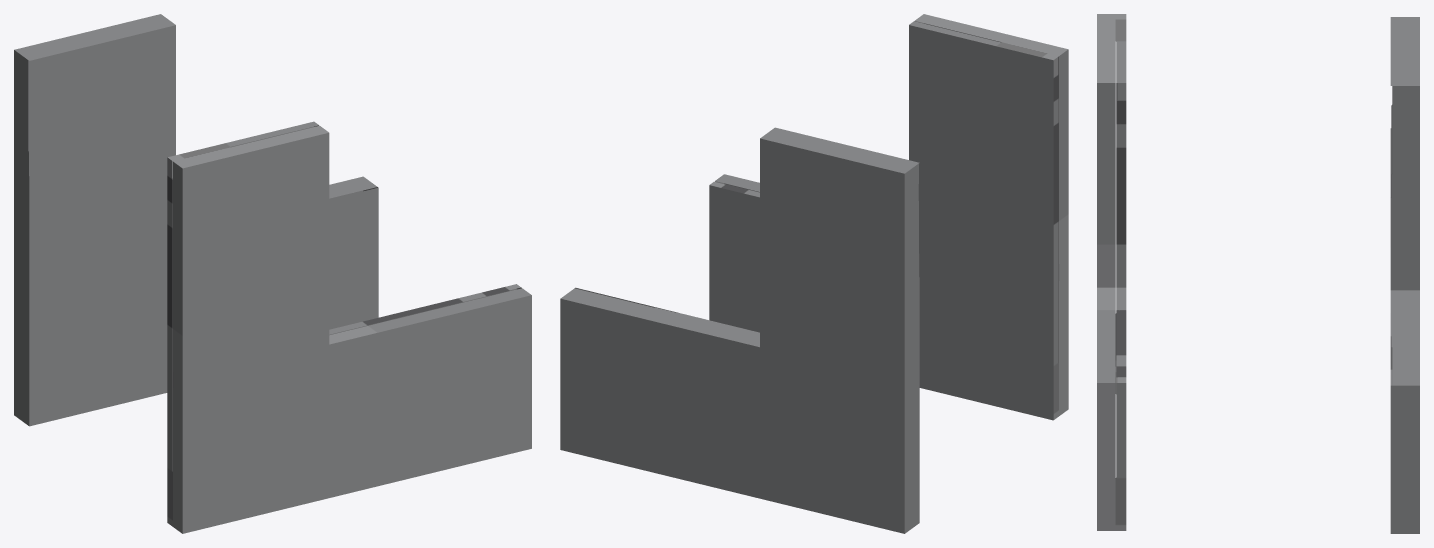
3 renders of one model, left to right at view 1: azimuth 30°, elevation 25°; view 2: azimuth 150°, elevation 25°; view 3: azimuth 270°, elevation 25°, orthographic. The views are drawn at different scales.
Bounding box in the file's own units: 0.931 × 0.937 × 0.77.
